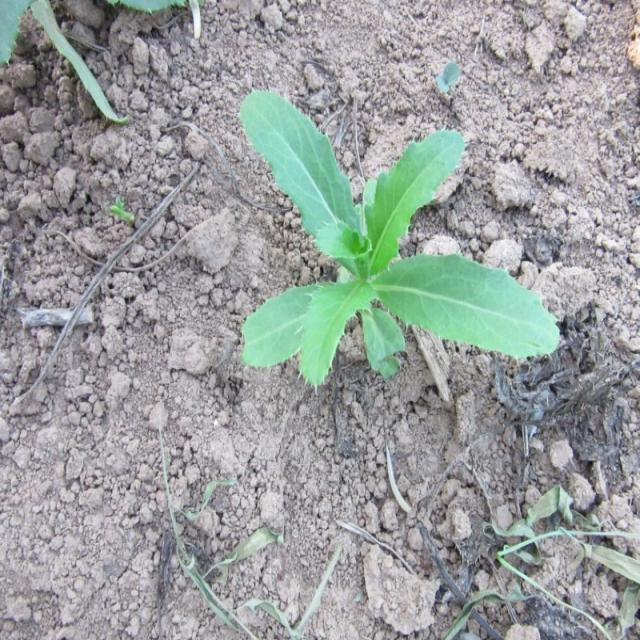cs: (238, 88, 562, 397)
